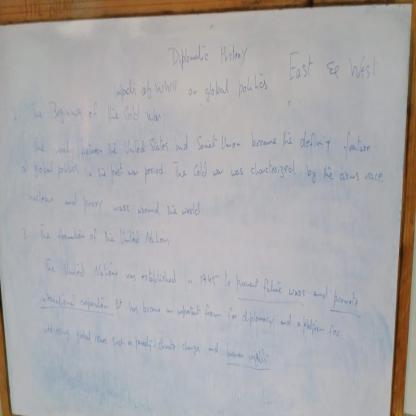Handwritten text: (17, 146, 389, 202), (37, 254, 361, 318), (33, 285, 346, 349), (34, 316, 277, 380), (30, 120, 373, 156), (21, 188, 209, 229), (110, 65, 275, 104), (25, 101, 171, 133), (285, 46, 378, 89), (35, 221, 172, 249), (165, 37, 243, 66)
